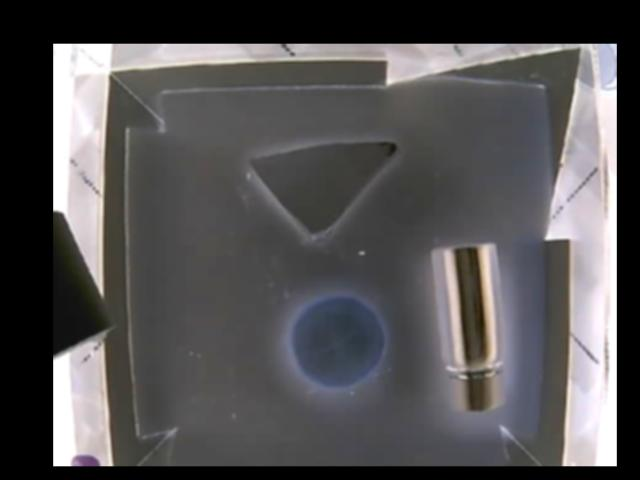Bottle: (432, 241, 504, 410)
China: (251, 143, 401, 239)
Mooli: (289, 296, 388, 391)
